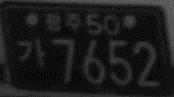0: (102, 14, 119, 37)
2: (133, 40, 163, 87)
5: (107, 38, 133, 87), (86, 12, 102, 35)
6: (82, 38, 105, 84)
7: (49, 37, 75, 85)
가: (15, 37, 47, 70)
광주_O: (45, 10, 82, 33)
